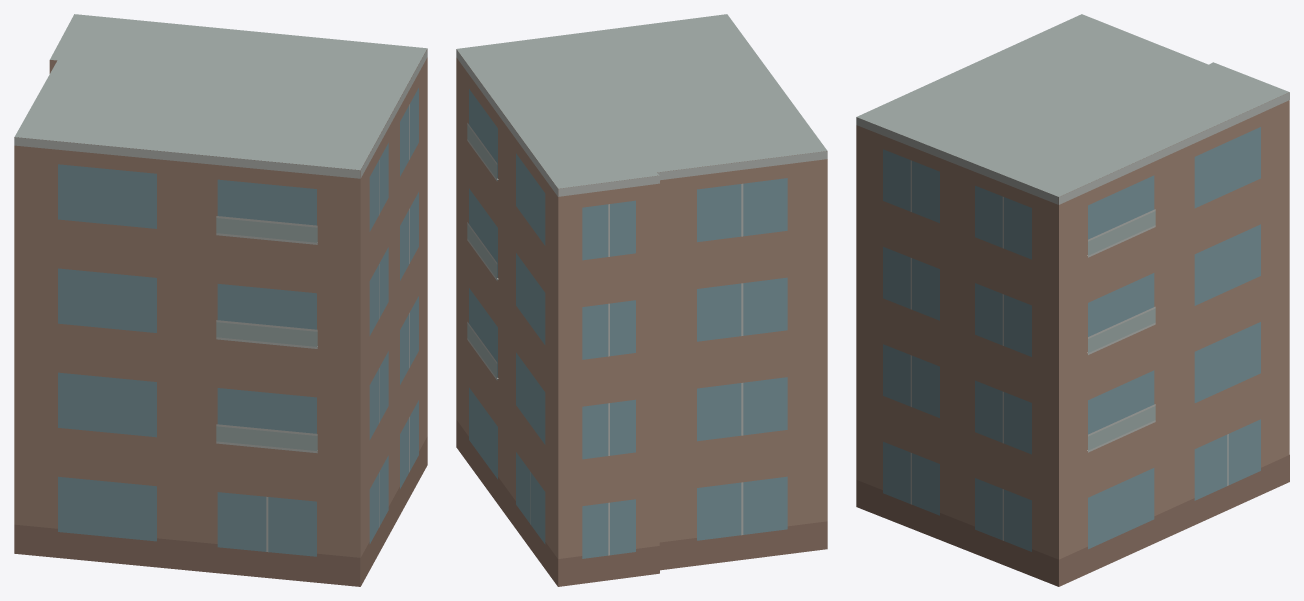
The model's file is survey-upis-32511349.glb.
3 renders of one model, left to right at view 1: azimuth 30°, elevation 25°; view 2: azimuth 150°, elevation 25°; view 3: azimuth 270°, elevation 25°, orthographic. The views are drawn at different scales.
Parts seen in each view (by area): view 1: survey-upis-32511349.tmp; view 2: survey-upis-32511349.tmp; view 3: survey-upis-32511349.tmp.
Boxes of the visible parts, x1,y1,x2,y2 form: survey-upis-32511349.tmp: [14, 14, 427, 586]; survey-upis-32511349.tmp: [456, 14, 827, 586]; survey-upis-32511349.tmp: [856, 14, 1289, 586].
Size of the model in its own units: 11.99 by 11.9 by 12.
